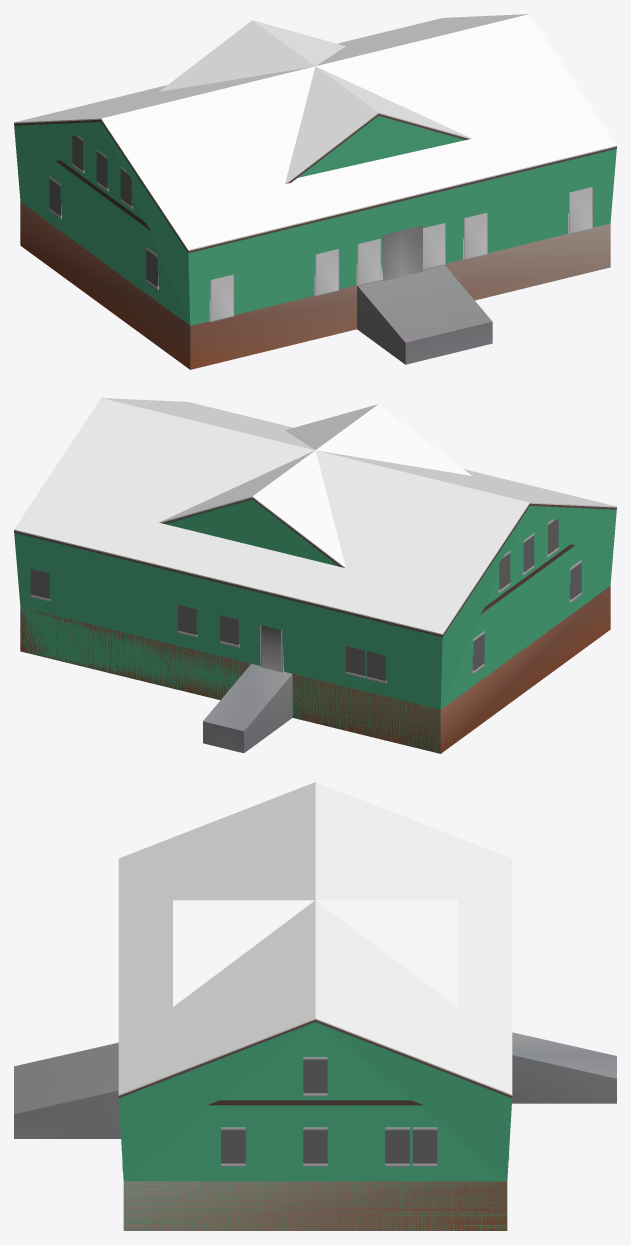
Rendered from eca_bld_grocerystore.dae.
3 views of the same model, one above another, from view 1: azimuth 30°, elevation 25°; view 2: azimuth 150°, elevation 25°; view 3: azimuth 270°, elevation 25° (orthographic). The views are drawn at different scales.
Parts seen in each view (by area): view 1: ind_bld_a400, ind_bld_a100, Colmesh-1; view 2: ind_bld_a400, Colmesh-1, ind_bld_a100; view 3: ind_bld_a400, Colmesh-1, ind_bld_a100.
Boxes of the visible parts, x1,y1,x2,y2 form: ind_bld_a400: [14, 14, 616, 321]; ind_bld_a100: [14, 113, 616, 369]; Colmesh-1: [14, 116, 616, 325]; ind_bld_a400: [14, 398, 616, 683]; Colmesh-1: [14, 498, 616, 753]; ind_bld_a100: [14, 498, 616, 753]; ind_bld_a400: [118, 782, 512, 1170]; Colmesh-1: [118, 1022, 512, 1230]; ind_bld_a100: [14, 1019, 616, 1230].
Bounding box in the file's own units: 20.4 × 22 × 8.65.
